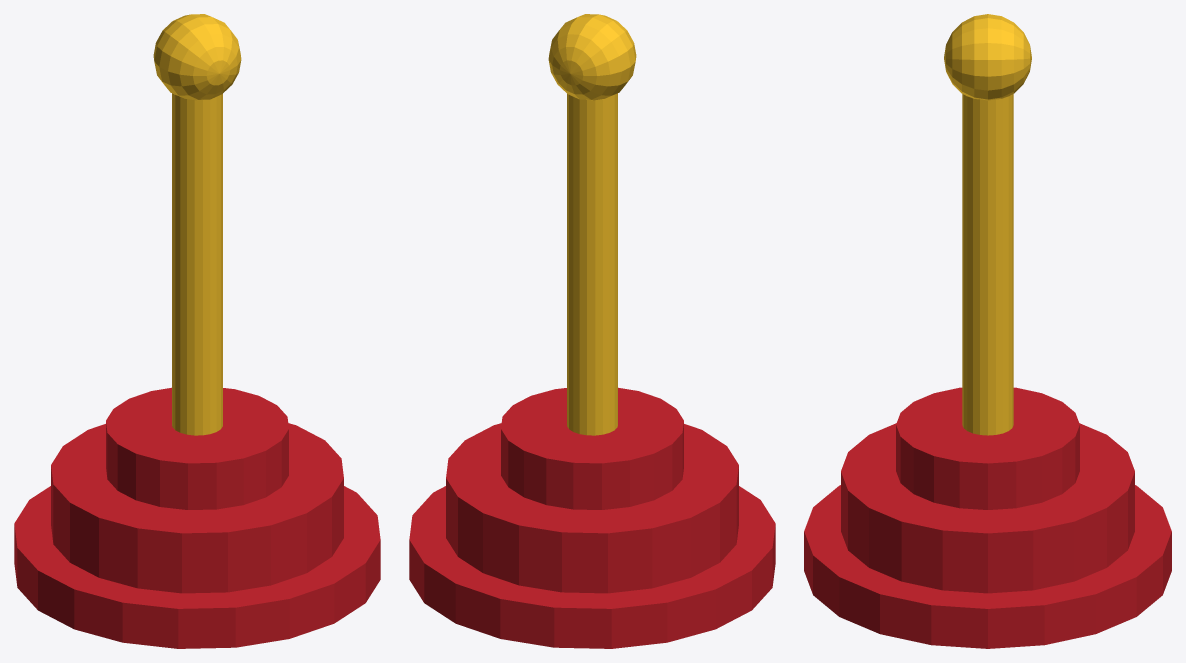
The model's file is hat_plunger.fbx.
3 views of the same model, side by side, from view 1: azimuth 30°, elevation 25°; view 2: azimuth 150°, elevation 25°; view 3: azimuth 270°, elevation 25° (orthographic).
Visible parts, largest first — view 1: hat_plunger; view 2: hat_plunger; view 3: hat_plunger.
Boxes of the visible parts, <box> form: hat_plunger: <box>14,14,380,648</box>; hat_plunger: <box>409,14,775,648</box>; hat_plunger: <box>804,14,1171,648</box>.
Size of the model in its own units: 100 by 166 by 100.
Materials: 1 (1 with a texture image).
